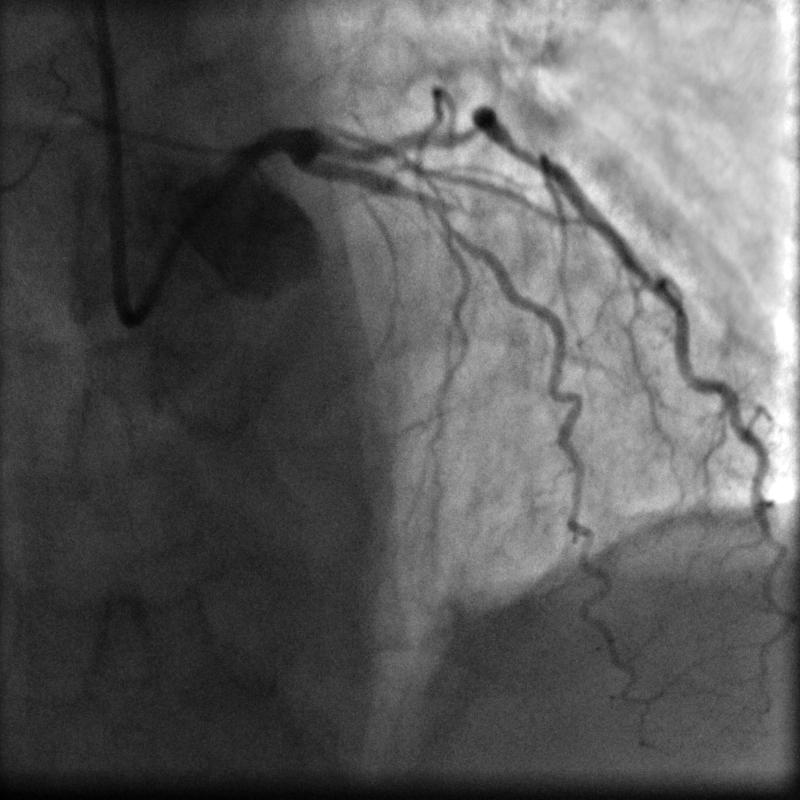Stenosis: (393, 169, 450, 228)
